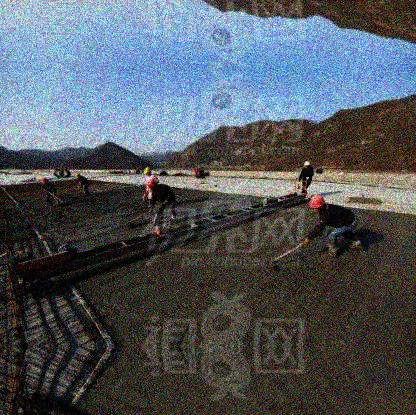helmet: (310, 194, 325, 213), (146, 180, 158, 191), (303, 158, 311, 169), (42, 177, 49, 188), (143, 167, 150, 177), (76, 172, 80, 181)
